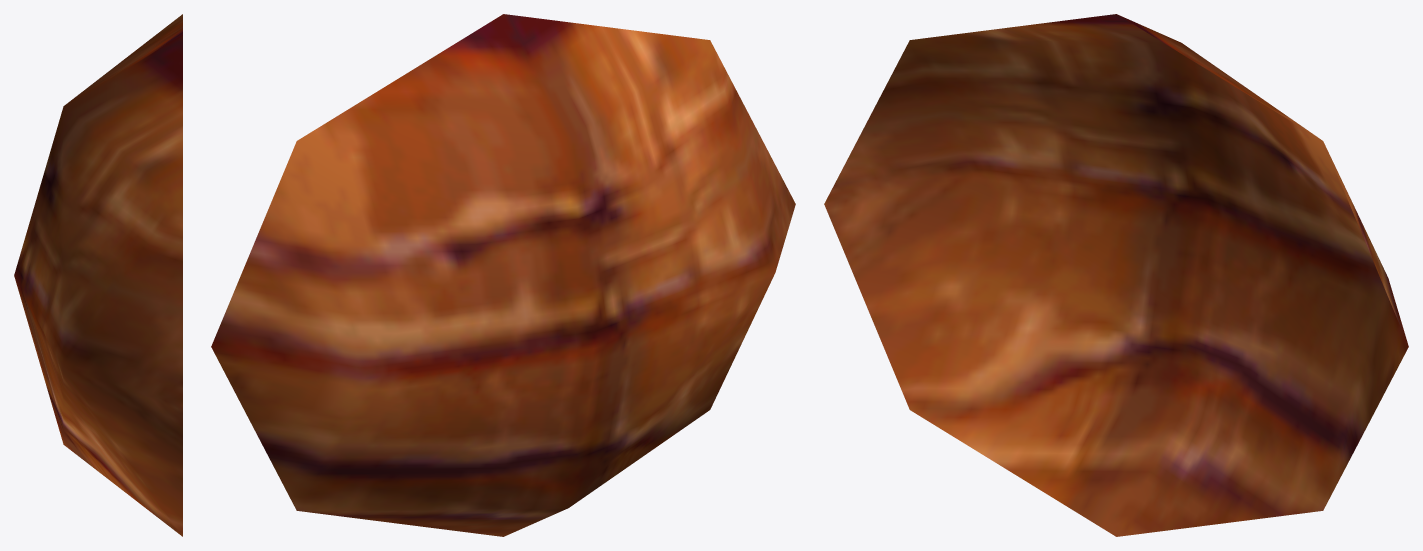
Rendered from Boulder.FBX.
3 views of the same model, side by side, from view 1: azimuth 30°, elevation 25°; view 2: azimuth 150°, elevation 25°; view 3: azimuth 270°, elevation 25° (orthographic). The views are drawn at different scales.
Parts seen in each view (by area): view 1: boulder; view 2: boulder; view 3: boulder.
Boxes of the visible parts, bbox=[...] form: boulder: bbox=[14, 14, 182, 536]; boulder: bbox=[211, 14, 795, 536]; boulder: bbox=[824, 14, 1408, 536].
Bounding box in the file's own units: 860 × 1237 × 1254.
